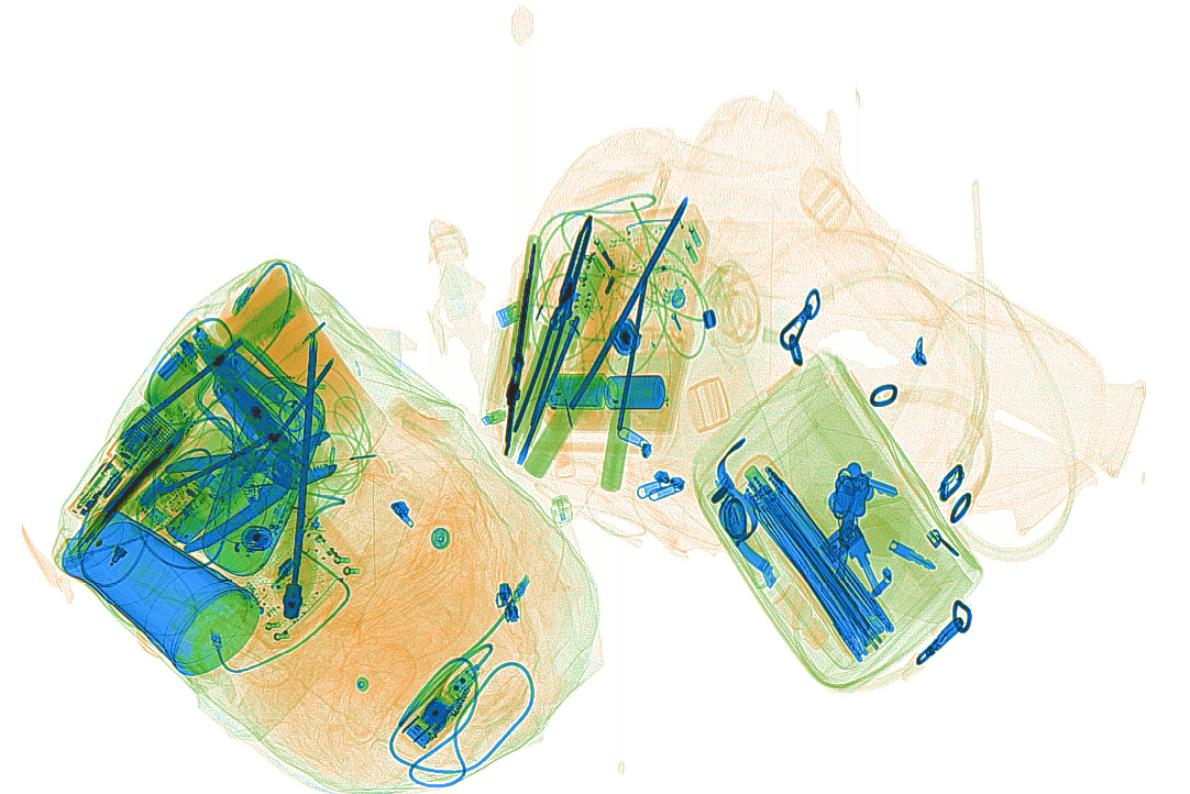battery: (602, 373, 667, 411), (541, 372, 608, 408)
scissors: (238, 374, 308, 456)
